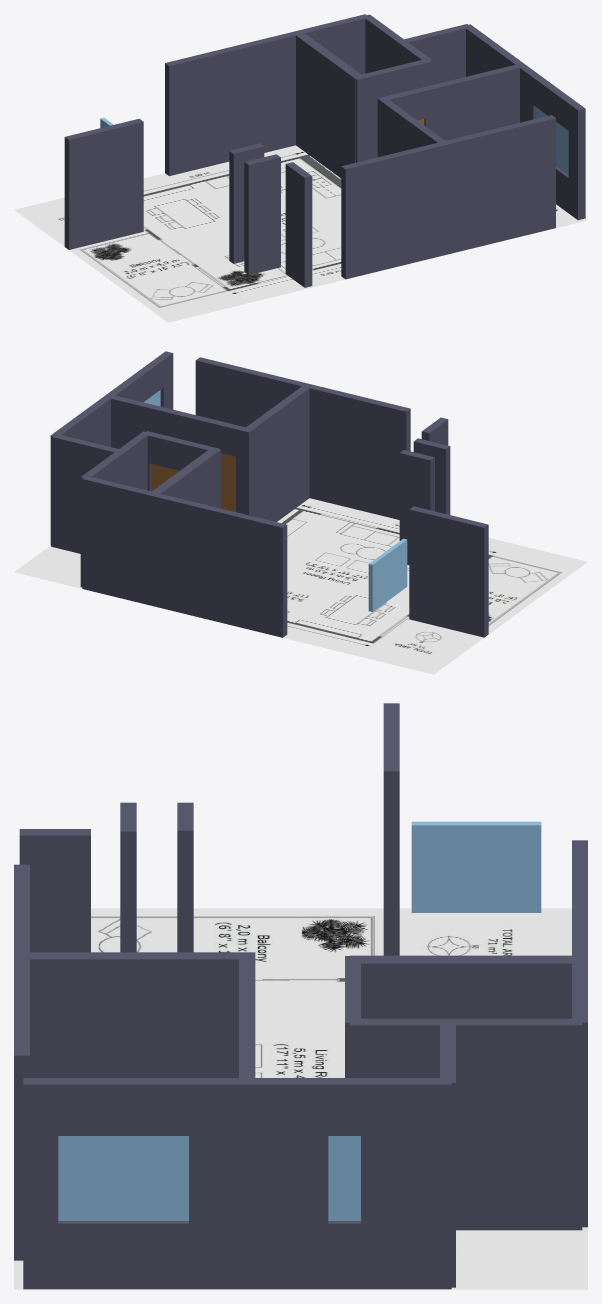
The model's file is floorplan2.obj.
3 views of the same model, one above another, from view 1: azimuth 30°, elevation 25°; view 2: azimuth 150°, elevation 25°; view 3: azimuth 270°, elevation 25° (orthographic). The views are drawn at different scales.
Parts seen in each view (by area): view 1: wall, FloorPlan, Window; view 2: wall, FloorPlan, Window, Door; view 3: wall, FloorPlan, Window.
Boxes of the visible parts, x1,y1,x2,y2 form: wall: (64, 14, 585, 287); FloorPlan: (14, 145, 587, 322); Window: (100, 107, 568, 174); wall: (50, 351, 488, 637); FloorPlan: (14, 498, 587, 674); Window: (144, 390, 407, 611); Door: (151, 453, 235, 511); wall: (14, 703, 587, 1289); FloorPlan: (14, 908, 587, 1289); Window: (58, 821, 541, 1220).
Size of the model in its own units: 11.19 by 2.8 by 7.12.
Materials: 4 (1 with a texture image).
